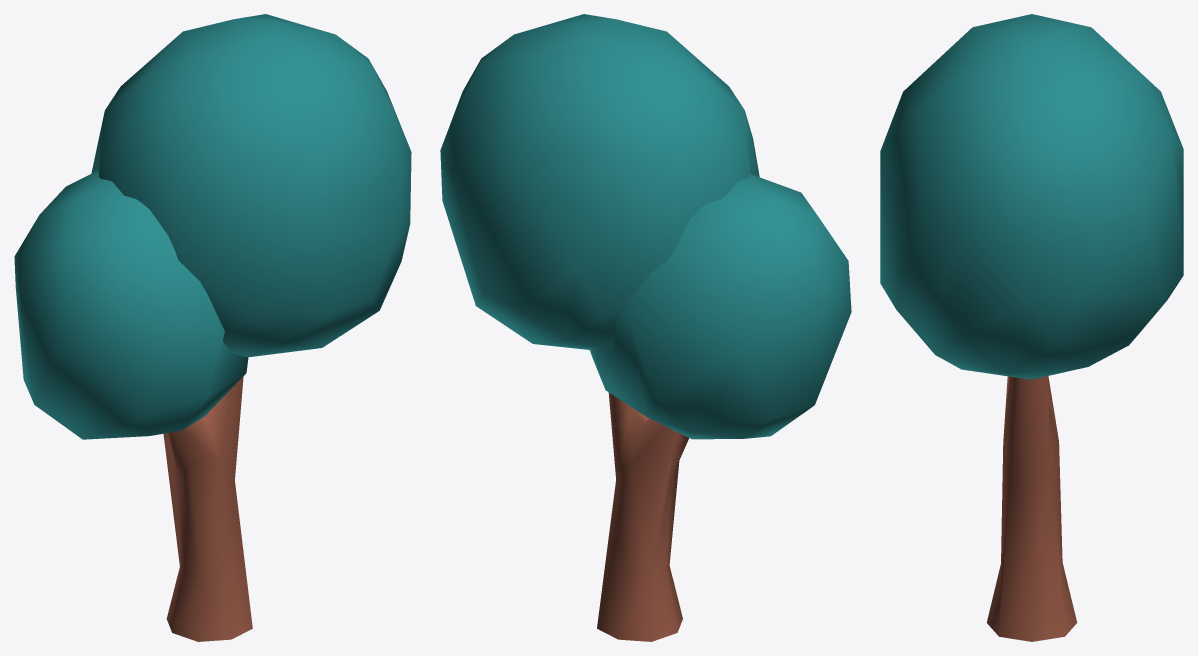
Rendered from tree-b.glb.
The picture shows the model from 3 angles, left to right: view 1: azimuth 30°, elevation 25°; view 2: azimuth 150°, elevation 25°; view 3: azimuth 270°, elevation 25°; orthographic projection. The views are drawn at different scales.
Visible parts, largest first — view 1: detail_treeB; view 2: detail_treeB; view 3: detail_treeB.
Boxes of the visible parts, x1,y1,x2,y2 form: detail_treeB: [14, 14, 411, 641]; detail_treeB: [440, 14, 851, 641]; detail_treeB: [880, 14, 1183, 641].
Size of the model in its own units: 0.4839 by 0.7268 by 0.327.
